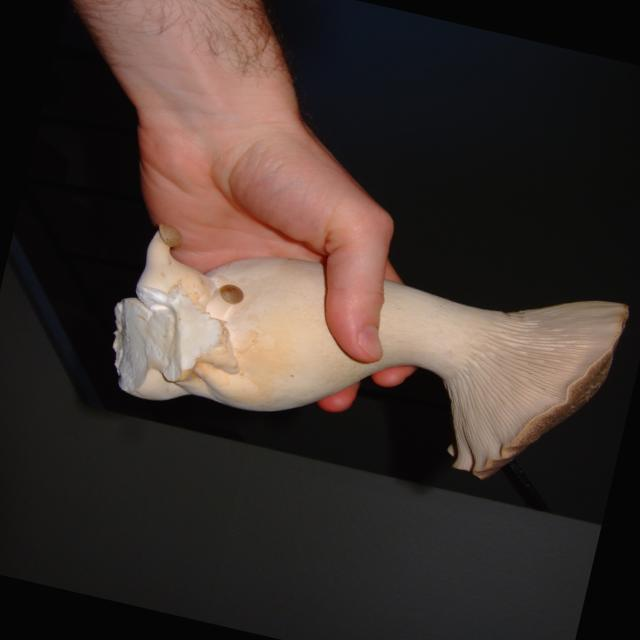Pleurotus eryngii: (98, 194, 632, 506)
